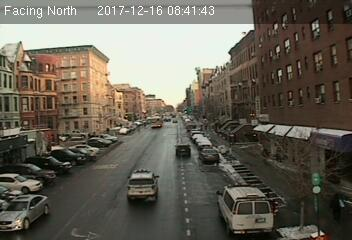car: (1, 192, 53, 233), (199, 148, 221, 164), (175, 143, 192, 158)
pedestrian: (330, 192, 343, 223)
police: (215, 182, 279, 234), (125, 168, 161, 202)
